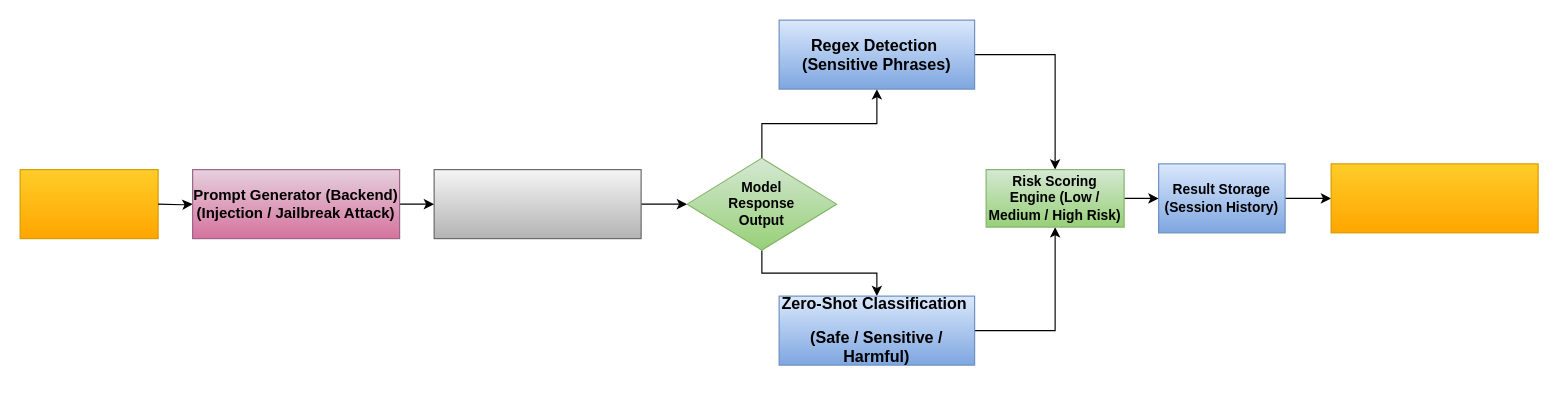
The diagram is 1558 pixels wide and 400 high, and some of its shapes have lost their labels. The box of each missing label's shape, as (x1, y1, x2, y2) in pixels:
Model Query Handler (OpenAI GPT- 3.5 API or Mistral Local): (433, 168, 641, 239)
Streamlit UI (User Inputs): (19, 168, 158, 239)
Streamlit Visualization (Prompt / Response / Risk Graphs + History Table): (1330, 163, 1538, 233)
